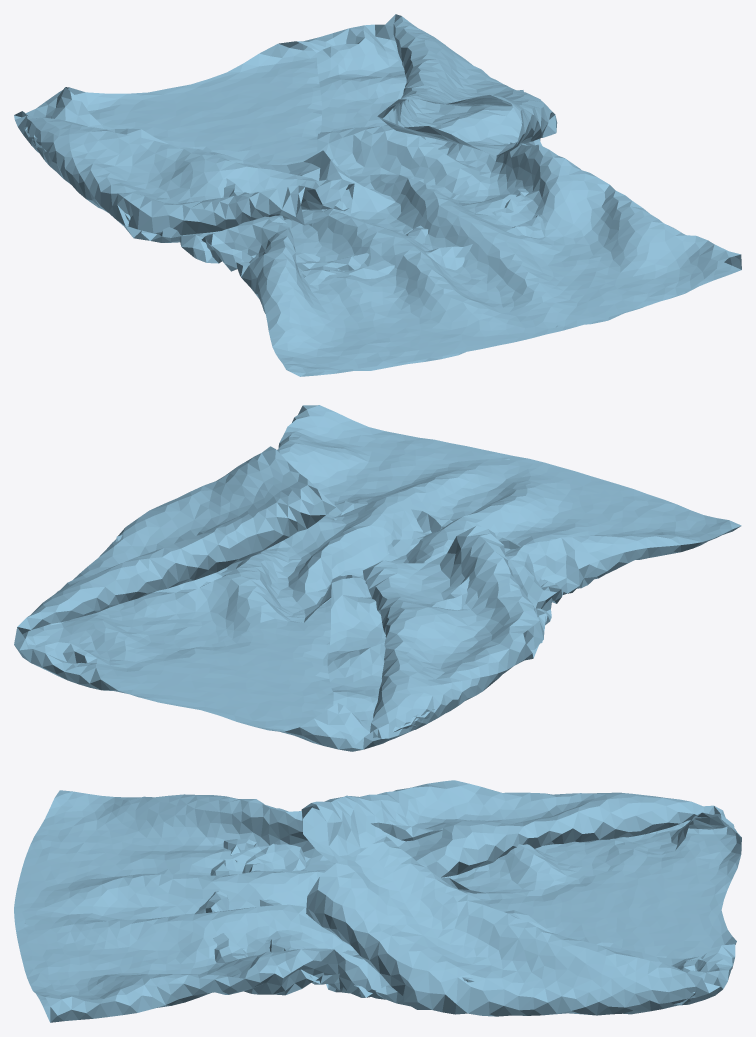
File: frame_18.glb
3 views of the same model, one above another, from view 1: azimuth 30°, elevation 25°; view 2: azimuth 150°, elevation 25°; view 3: azimuth 270°, elevation 25° (orthographic). The views are drawn at different scales.
Visible parts, largest first — view 1: frame_18.obj; view 2: frame_18.obj; view 3: frame_18.obj.
Part boxes in pixels (x1,y1,x2,y2): frame_18.obj: (14, 14, 741, 376); frame_18.obj: (14, 405, 741, 751); frame_18.obj: (14, 780, 741, 1022).
Size of the model in its own units: 1.16 by 0.2647 by 1.58.
